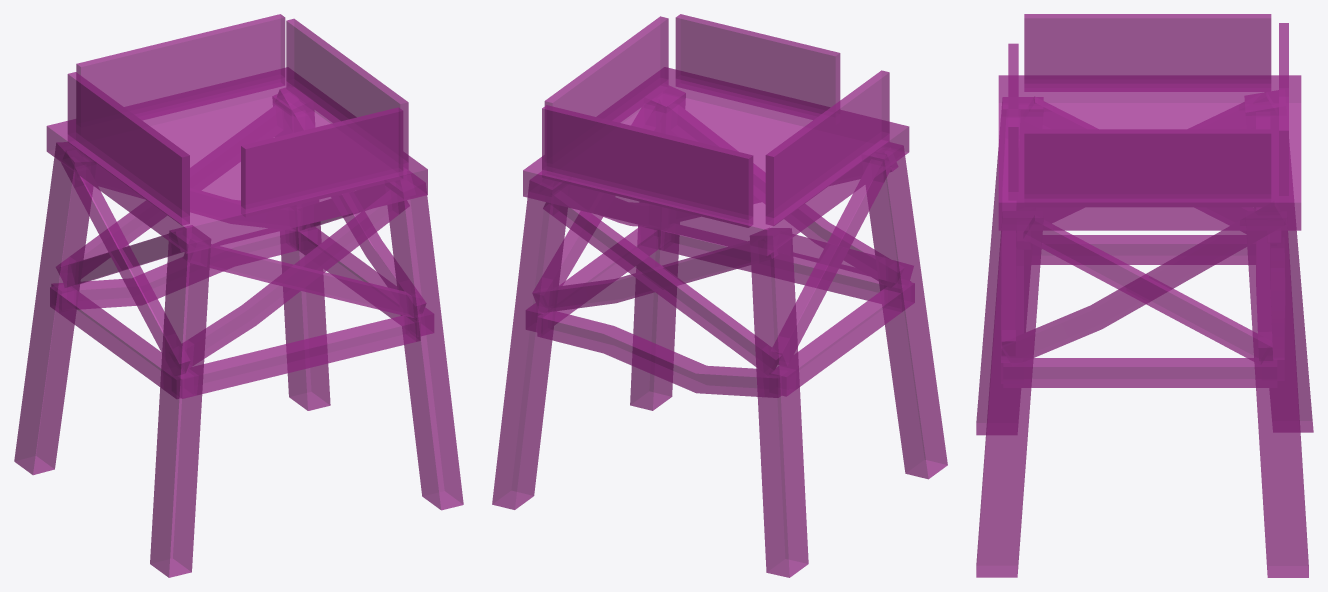
Rendered from SM_Bld_Tower_10_Collision.fbx.
The picture shows the model from 3 angles, left to right: view 1: azimuth 30°, elevation 25°; view 2: azimuth 150°, elevation 25°; view 3: azimuth 270°, elevation 25°; orthographic projection. The views are drawn at different scales.
Visible parts, largest first — view 1: SM_Bld_Tower_10_Collision; view 2: SM_Bld_Tower_10_Collision; view 3: SM_Bld_Tower_10_Collision.
Part boxes in pixels (bbox=[...]): SM_Bld_Tower_10_Collision: bbox=[14, 14, 463, 577]; SM_Bld_Tower_10_Collision: bbox=[492, 14, 947, 577]; SM_Bld_Tower_10_Collision: bbox=[976, 14, 1313, 577].
Bounding box in the file's own units: 502 × 641 × 458.
